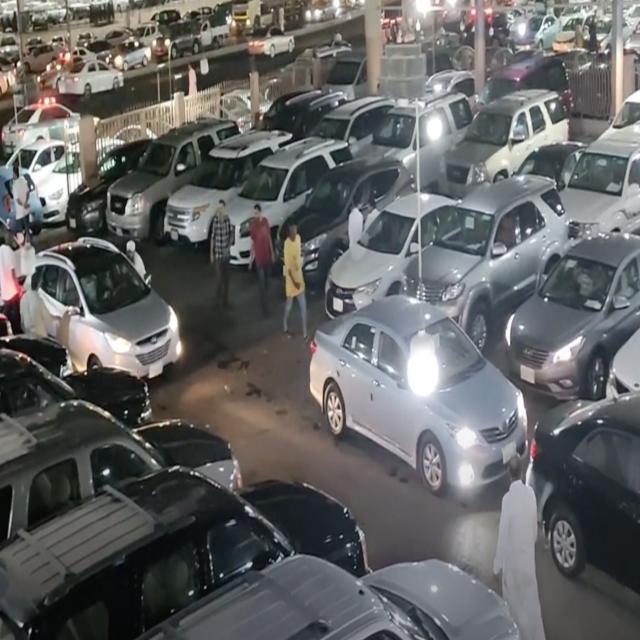license_plate: (502, 438, 518, 468), (148, 358, 164, 382), (519, 364, 536, 385), (332, 296, 344, 314), (170, 227, 179, 242), (69, 217, 76, 228), (116, 228, 122, 237), (66, 78, 72, 85)
